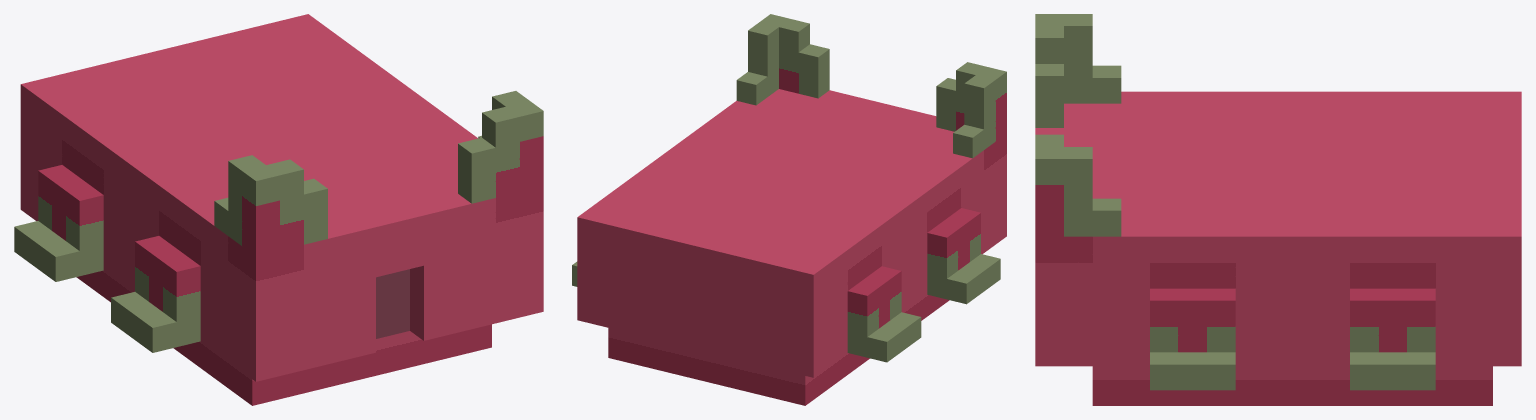
The model's file is Chest_6.fbx.
3 views of the same model, side by side, from view 1: azimuth 30°, elevation 25°; view 2: azimuth 150°, elevation 25°; view 3: azimuth 270°, elevation 25° (orthographic). The views are drawn at different scales.
Visible parts, largest first — view 1: Chest_6; view 2: Chest_6; view 3: Chest_6.
Boxes of the visible parts, x1=… form: Chest_6: x1=14, y1=14, x2=543, y2=405; Chest_6: x1=572, y1=14, x2=1006, y2=405; Chest_6: x1=1035, y1=14, x2=1521, y2=405.
Size of the model in its own units: 16 by 10 by 17.
Materials: 1 (1 with a texture image).
